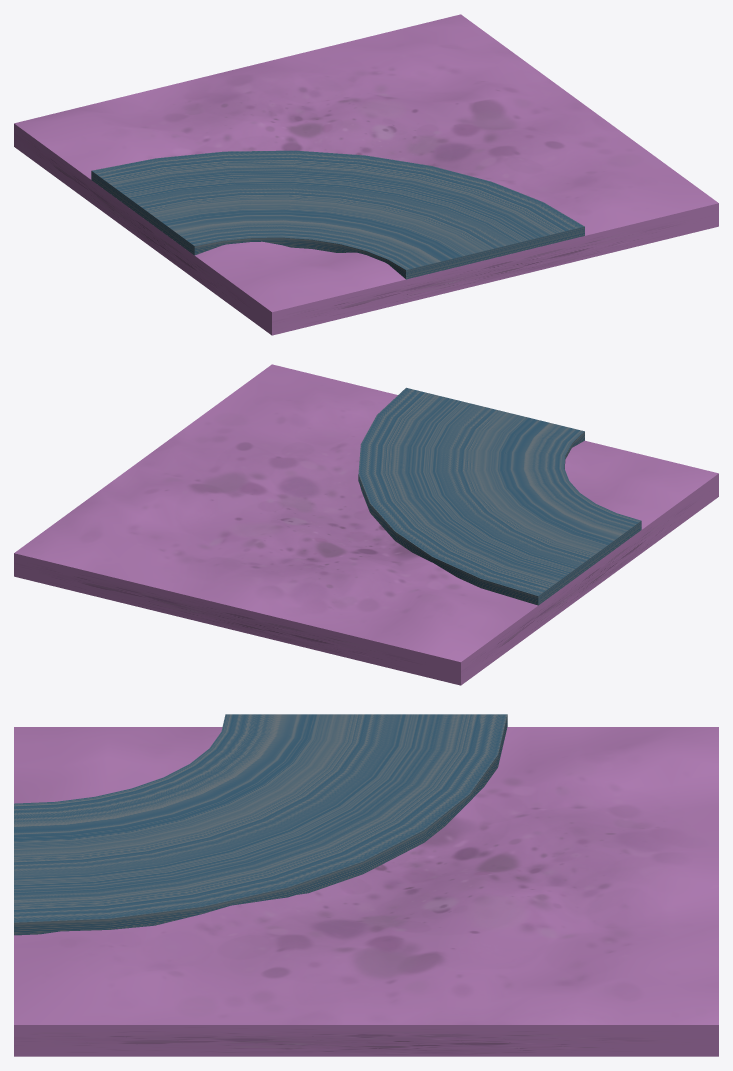
Rendered from Weg_bocht_low_ground_01.obj.
The picture shows the model from 3 angles, top to bottom: view 1: azimuth 30°, elevation 25°; view 2: azimuth 150°, elevation 25°; view 3: azimuth 270°, elevation 25°; orthographic projection. The views are drawn at different scales.
Parts seen in each view (by area): view 1: Tile2.0, Cube; view 2: Tile2.0, Cube; view 3: Tile2.0, Cube.
Part boxes in pixels (box(x1,y1,x2,y2)): Tile2.0: box(14, 14, 718, 335); Cube: box(91, 150, 584, 279); Tile2.0: box(14, 364, 718, 685); Cube: box(358, 387, 641, 605); Tile2.0: box(14, 727, 718, 1056); Cube: box(14, 714, 507, 935).
Bounding box in the file's own units: 10 × 0.7 × 10.
